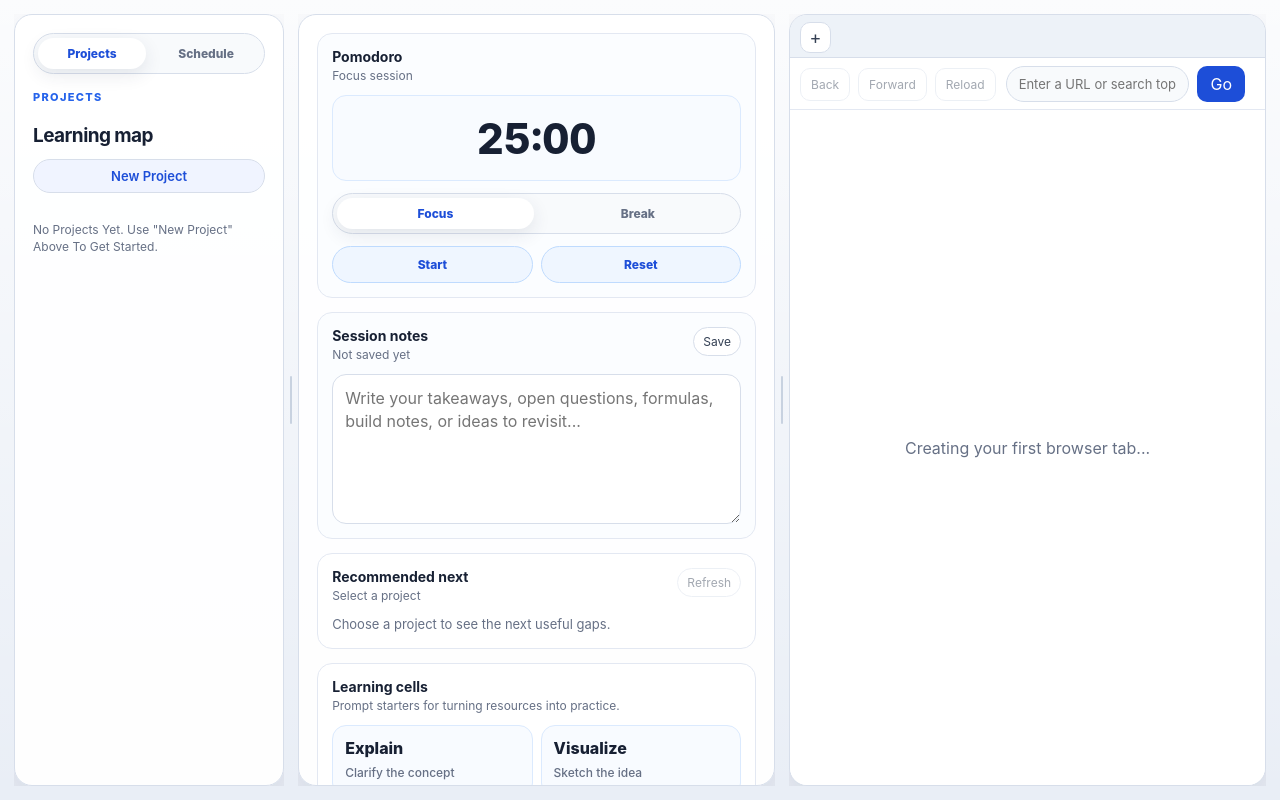
App › shows knowledge gap recommendations for the selected project
This screenshot has width=1280, height=800.
Click the button "New Project" at (149, 176), box [33,159,265,193]
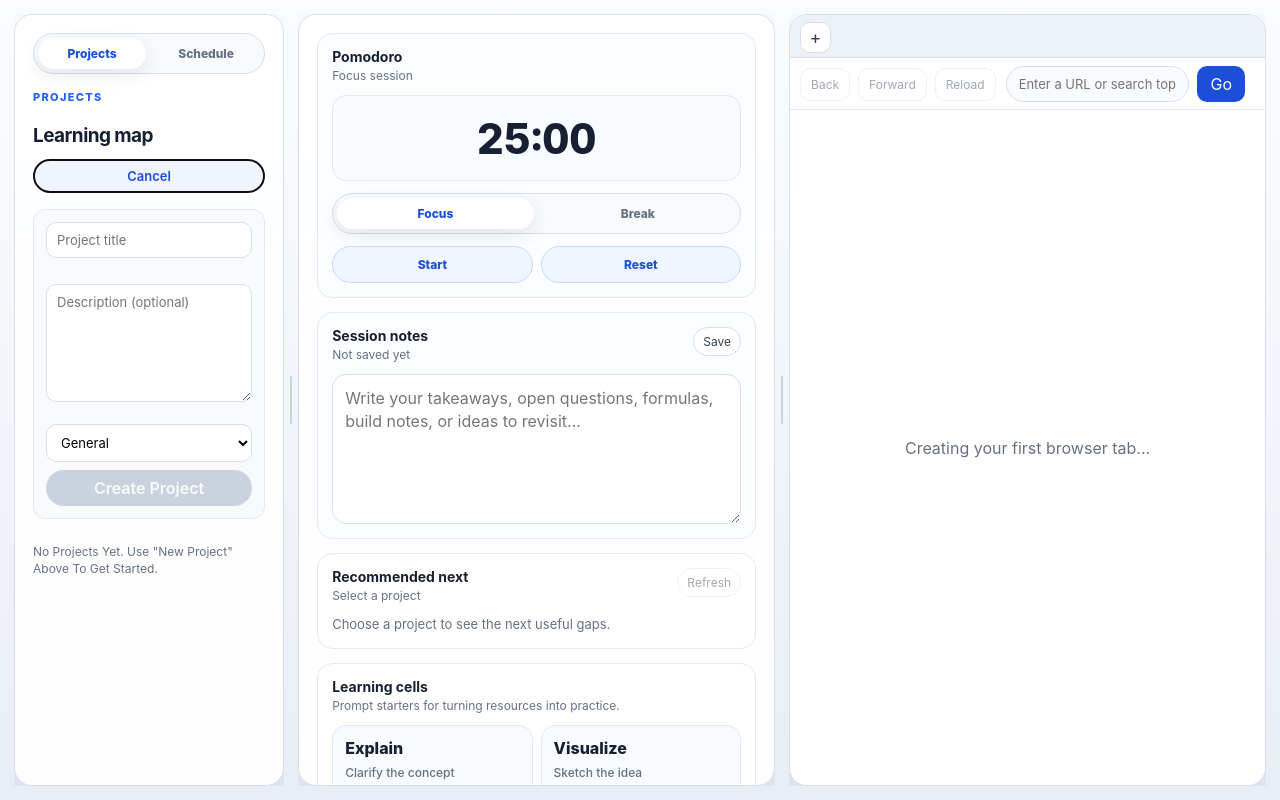
Type "Chassis Roadmap" into the field with placeholder "Project title" at (149, 240), box [46,222,252,258]
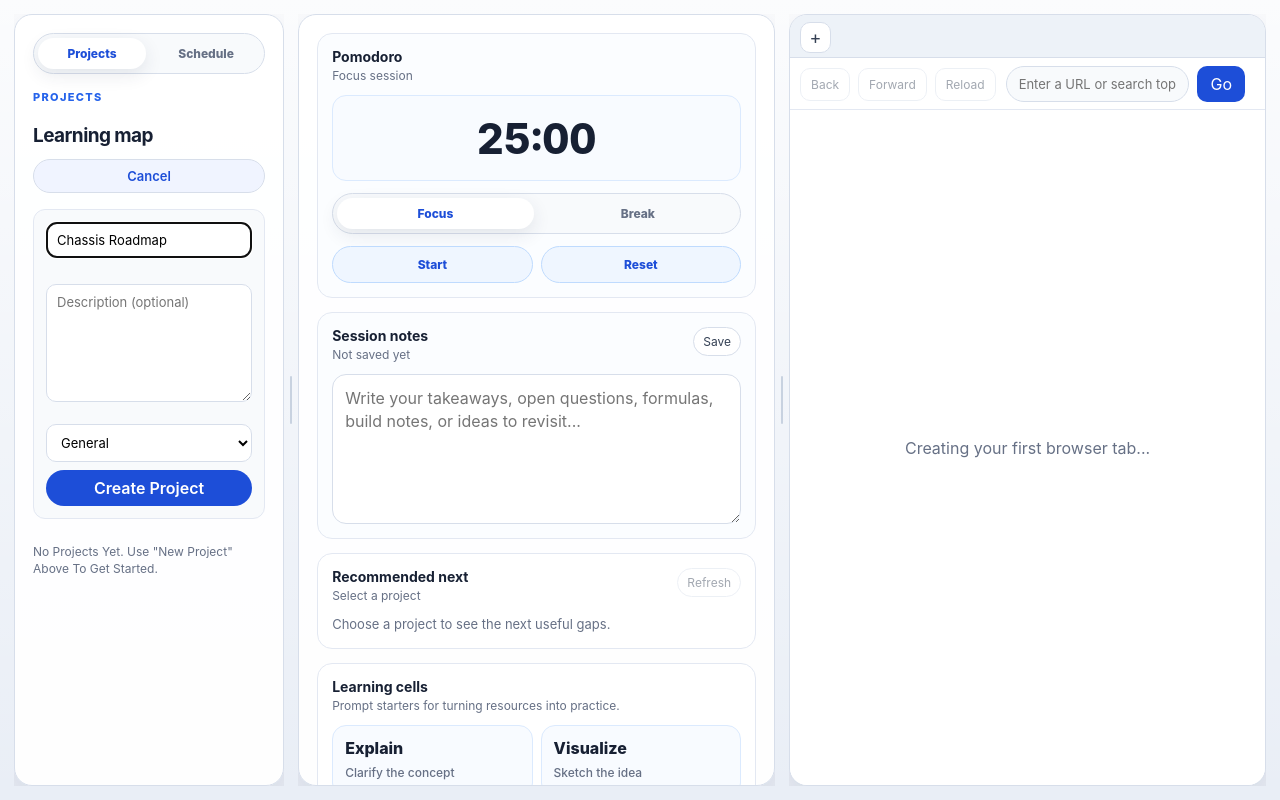
Click the button "Create Project" at (149, 488), box [46,470,252,506]
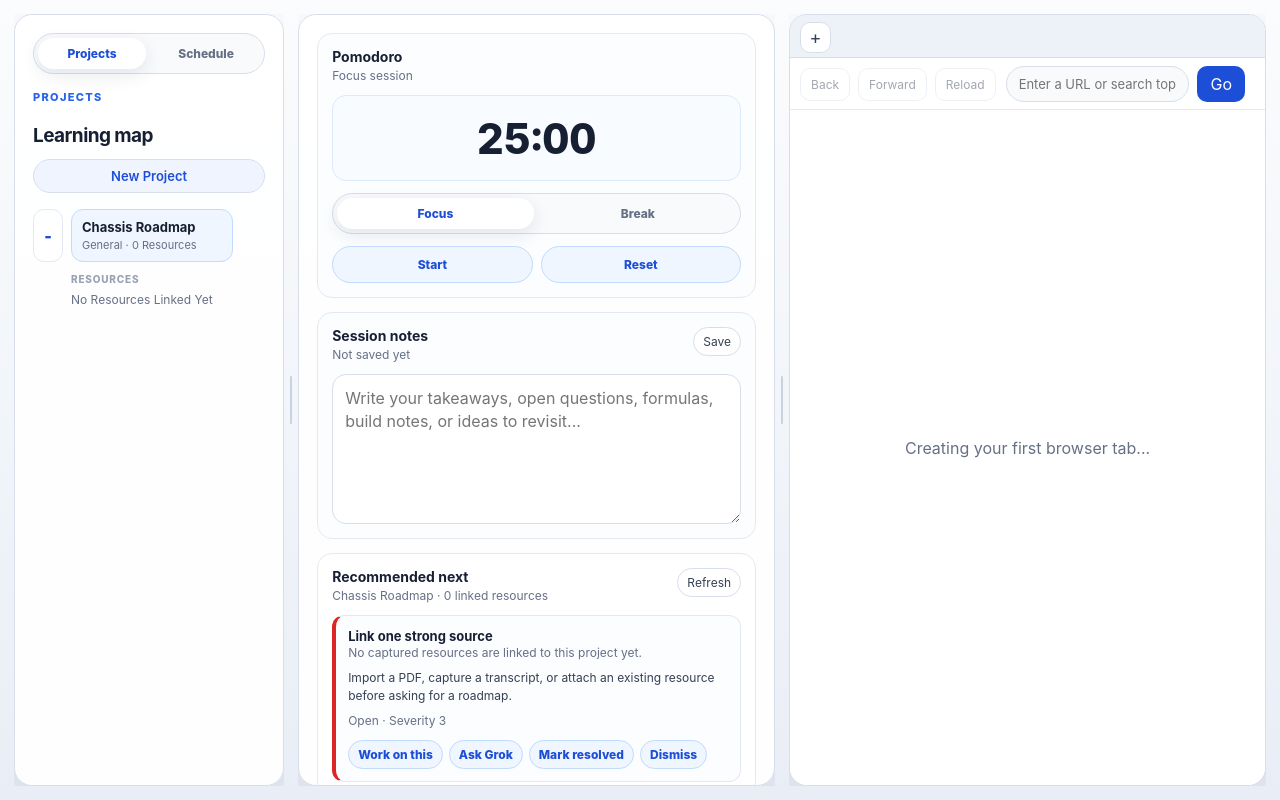
Check: the text "Link one strong source" is shown, box [348,628,493,644]
Check: the text "Import a PDF, capture a transcript, or attach an existing resource before asking for a roadmap." is shown, box [348,670,715,703]
Click the button "Work on this" at (395, 754), box [348,740,443,769]
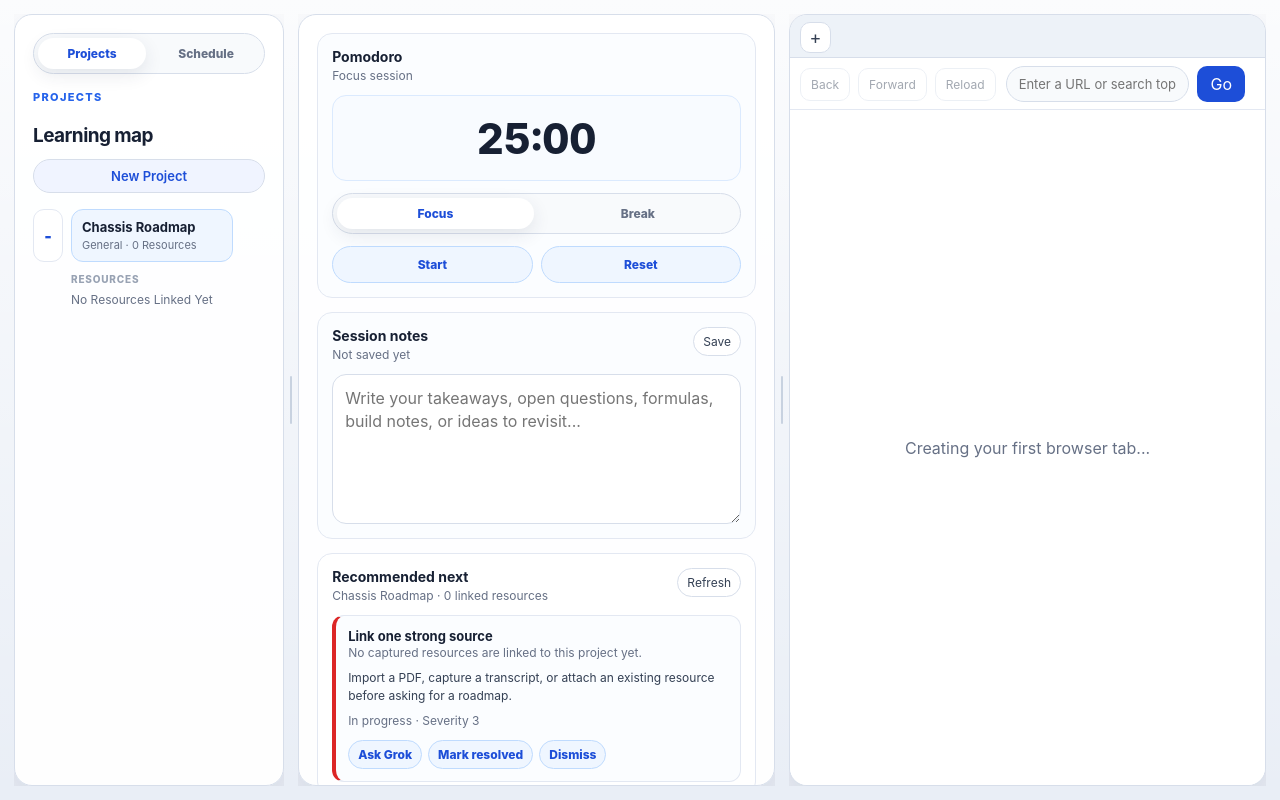
Check: the text "In progress · Severity 3" is shown, box [348,712,479,730]
Click the button "Dismiss" at (573, 754), box [539,740,606,769]
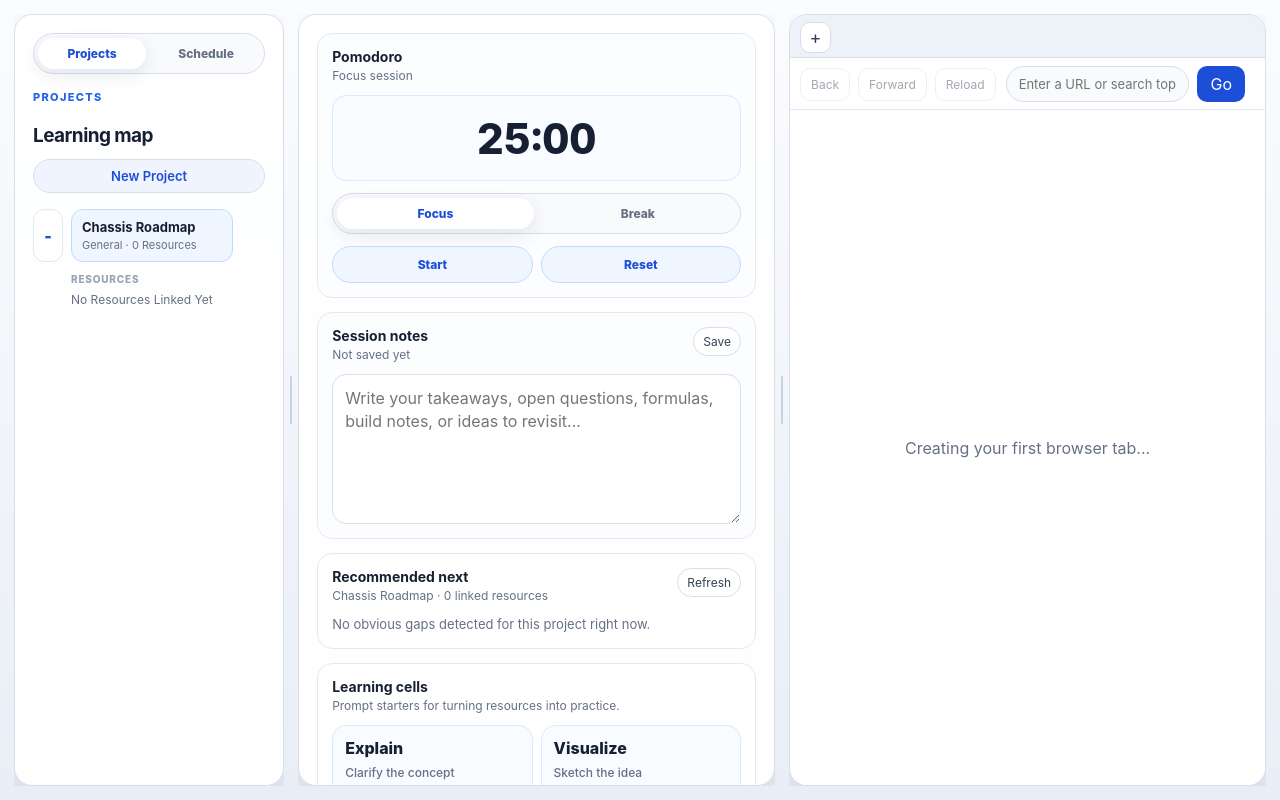
Check: the text "Link one strong source" is gone
